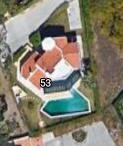pool: (40, 86, 92, 120)
